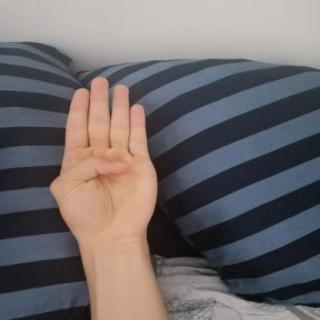KAAF: (31, 63, 176, 255)
